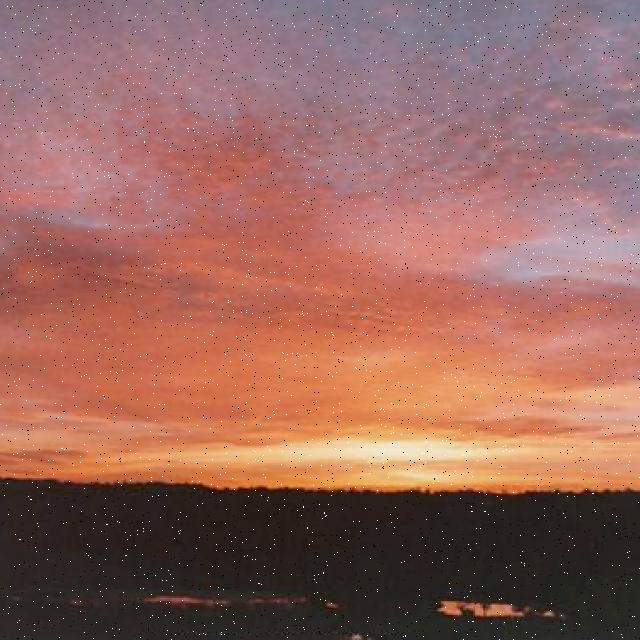As: (1, 40, 640, 456)
